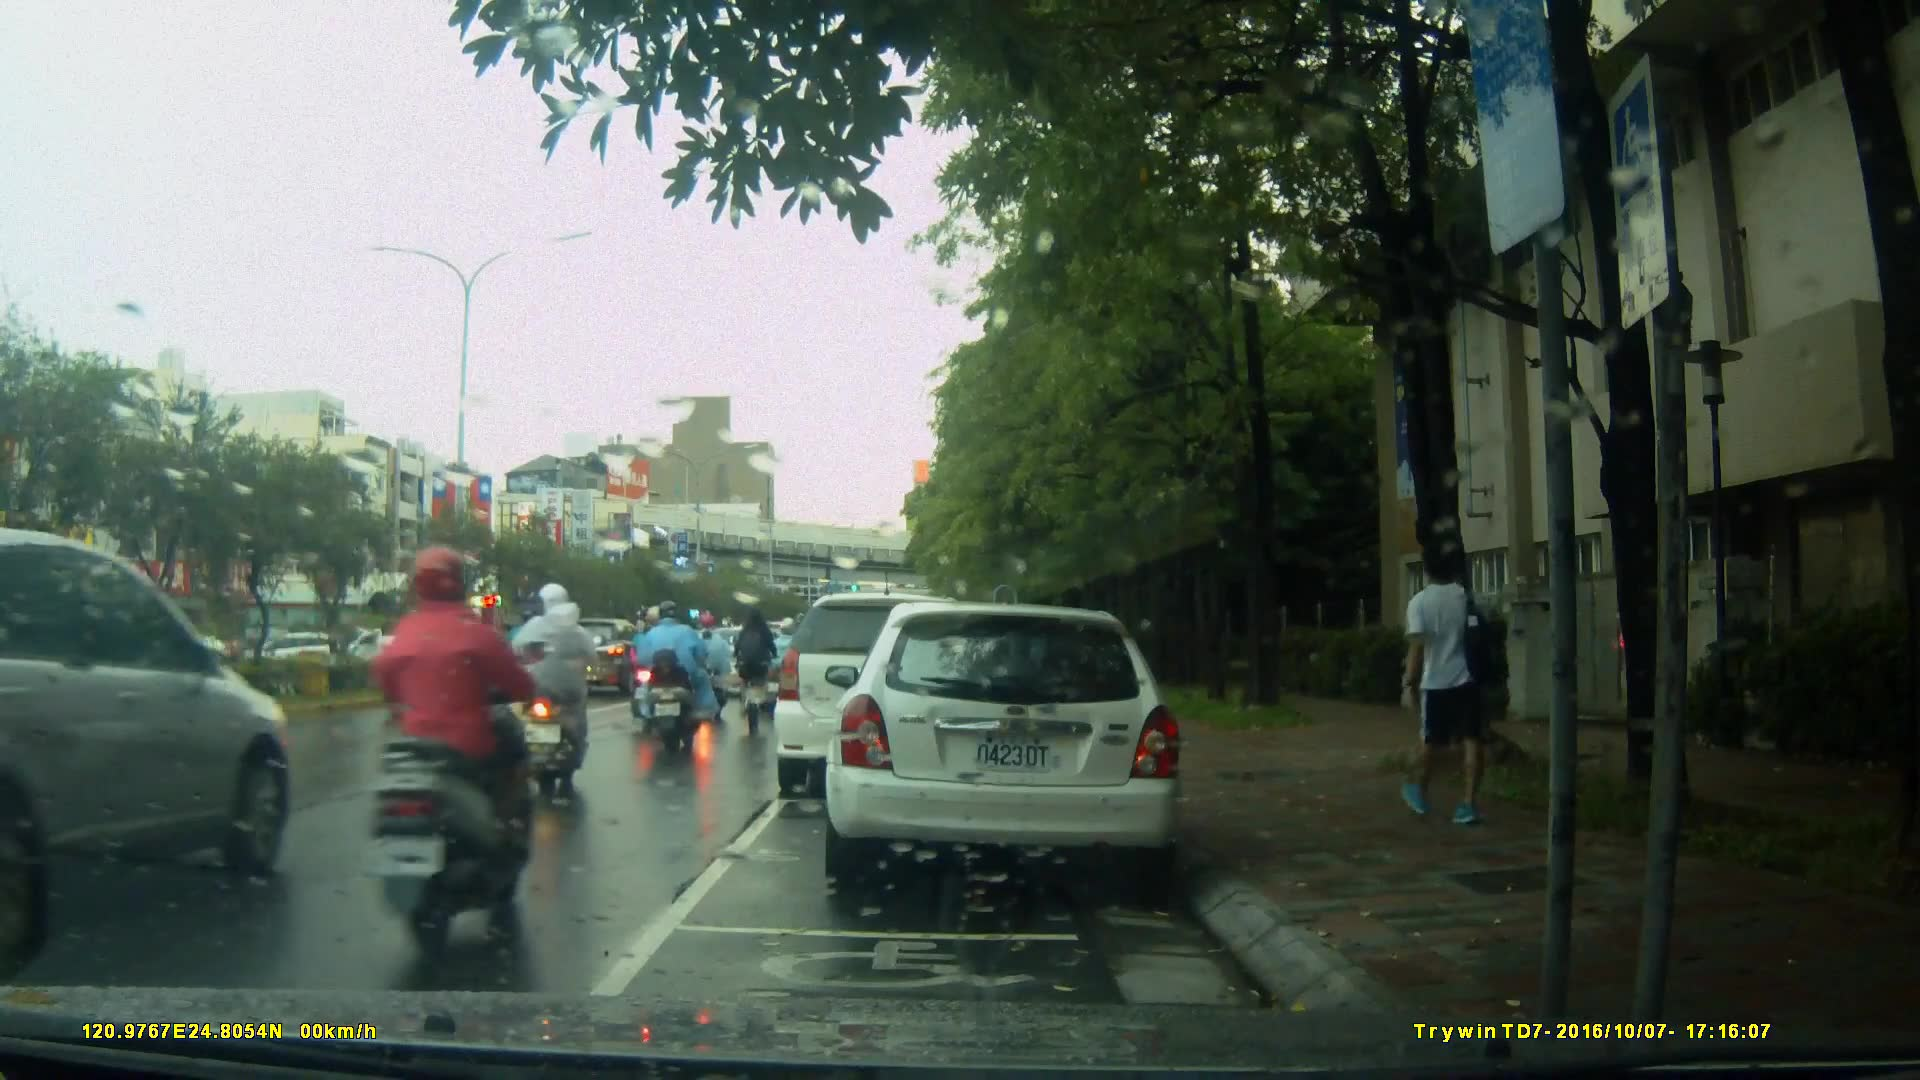pedestrian: (1405, 526, 1511, 853)
rider: (359, 534, 553, 988), (502, 585, 596, 798), (640, 605, 710, 755), (737, 605, 784, 751), (685, 608, 737, 717)
vehicle: (1, 531, 295, 948), (822, 604, 1188, 882), (774, 595, 995, 802), (376, 620, 531, 721)
